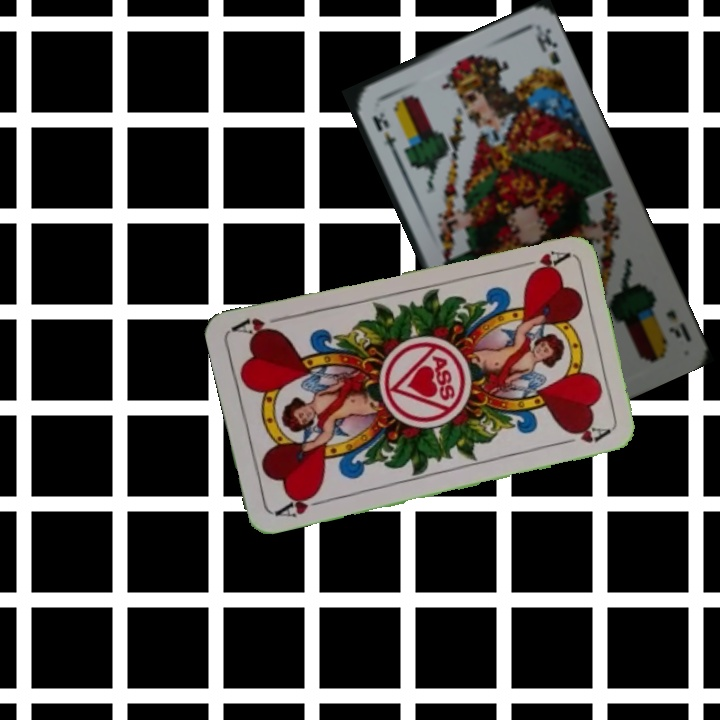EK: (368, 108, 400, 159), (662, 305, 693, 344)
HA: (270, 487, 329, 520), (511, 246, 570, 275)
